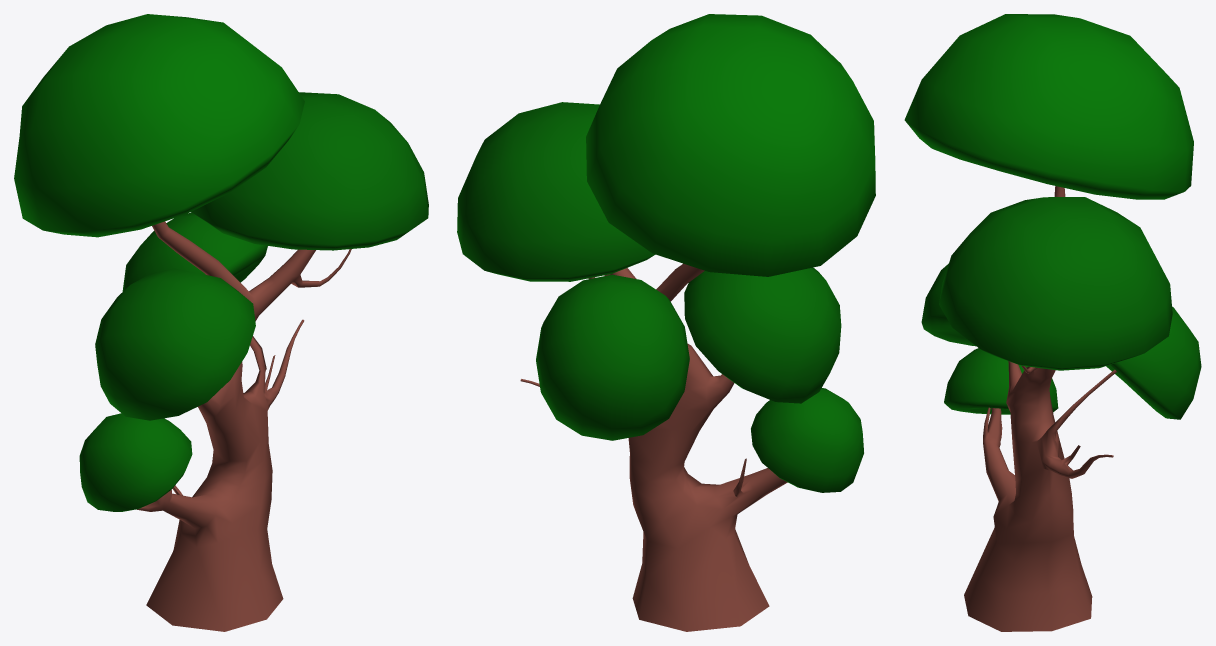
File: SM_Tree_P_12.fbx
The picture shows the model from 3 angles, left to right: view 1: azimuth 30°, elevation 25°; view 2: azimuth 150°, elevation 25°; view 3: azimuth 270°, elevation 25°; orthographic projection. The views are drawn at different scales.
Parts seen in each view (by area): view 1: SM_Tree_P_12; view 2: SM_Tree_P_12; view 3: SM_Tree_P_12.
Boxes of the visible parts, x1,y1,x2,y2 form: SM_Tree_P_12: [14, 14, 428, 631]; SM_Tree_P_12: [457, 14, 875, 631]; SM_Tree_P_12: [904, 14, 1201, 631].
Size of the model in its own units: 788 by 1147 by 549.
